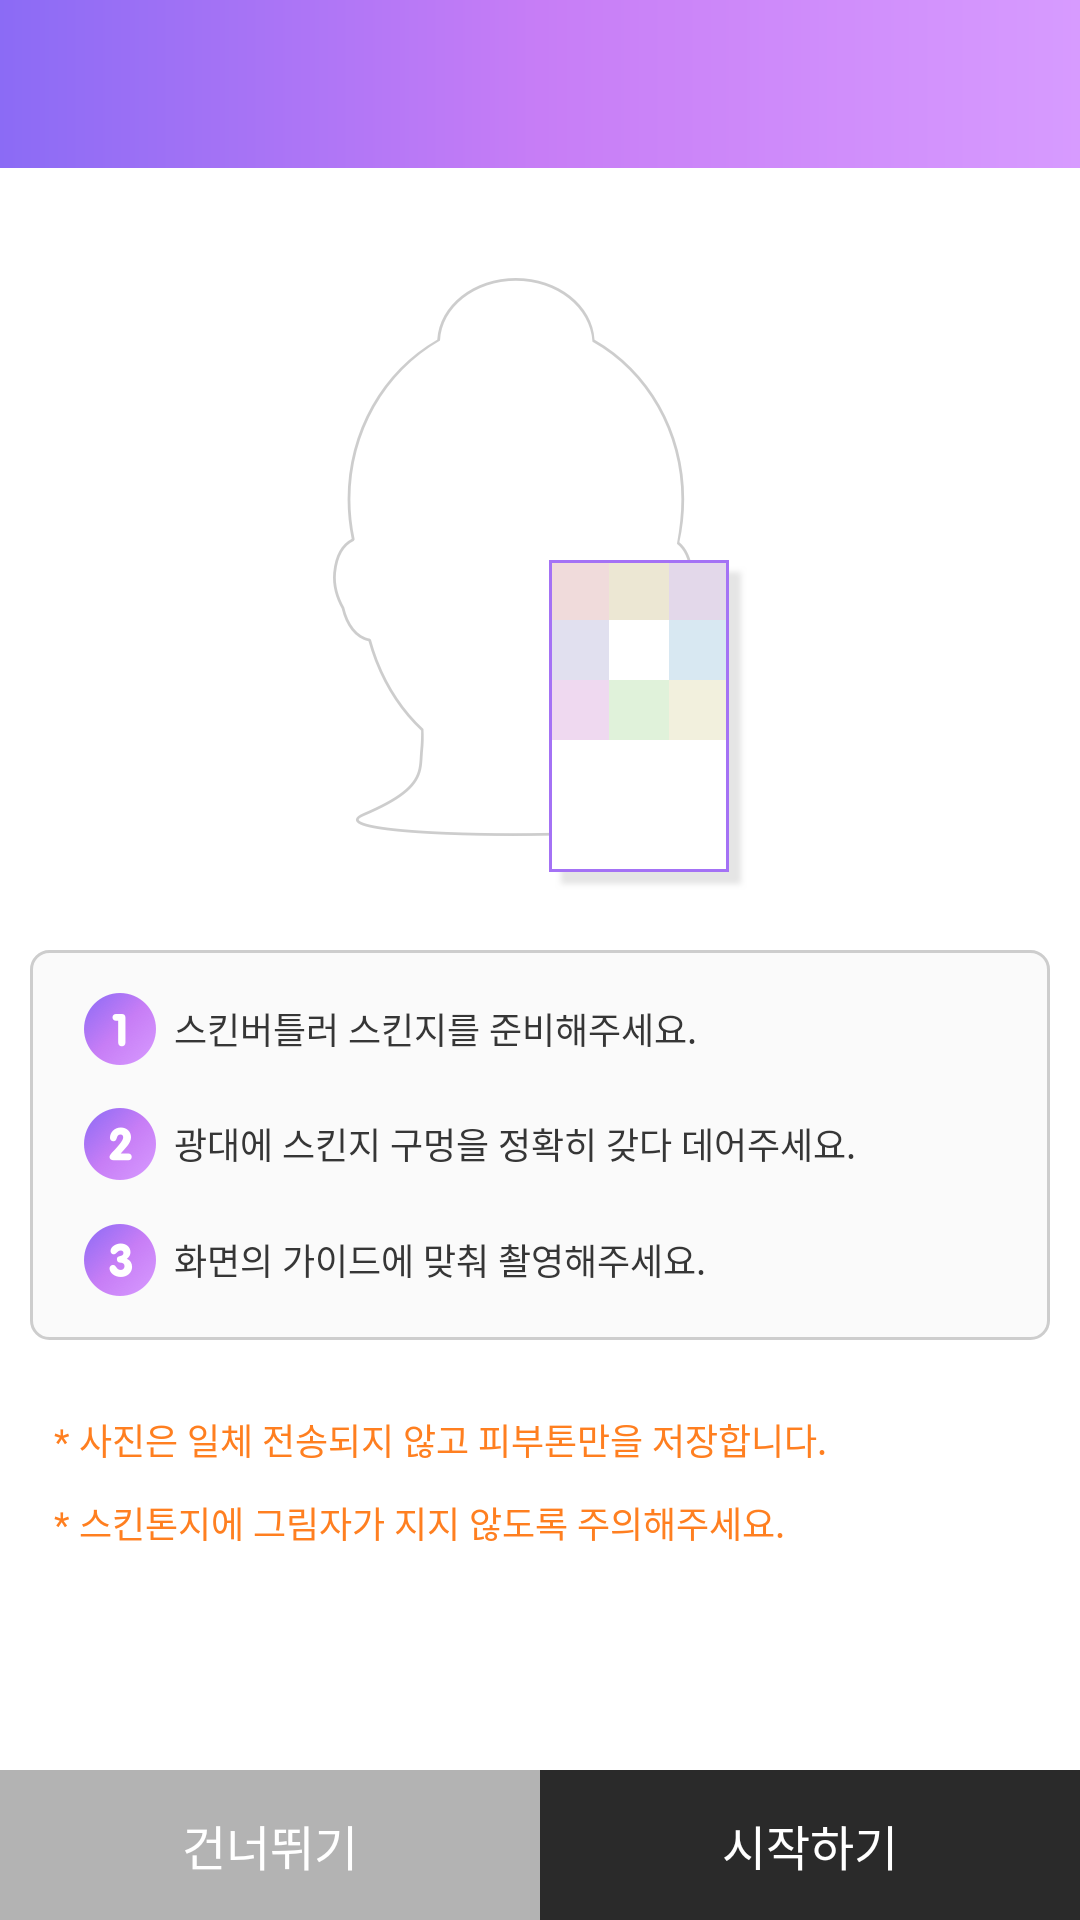

Where to tap for icons on this 1080x1920 app screen, as [x,y]:
number: [120,1029], [120,1144], [120,1260]
